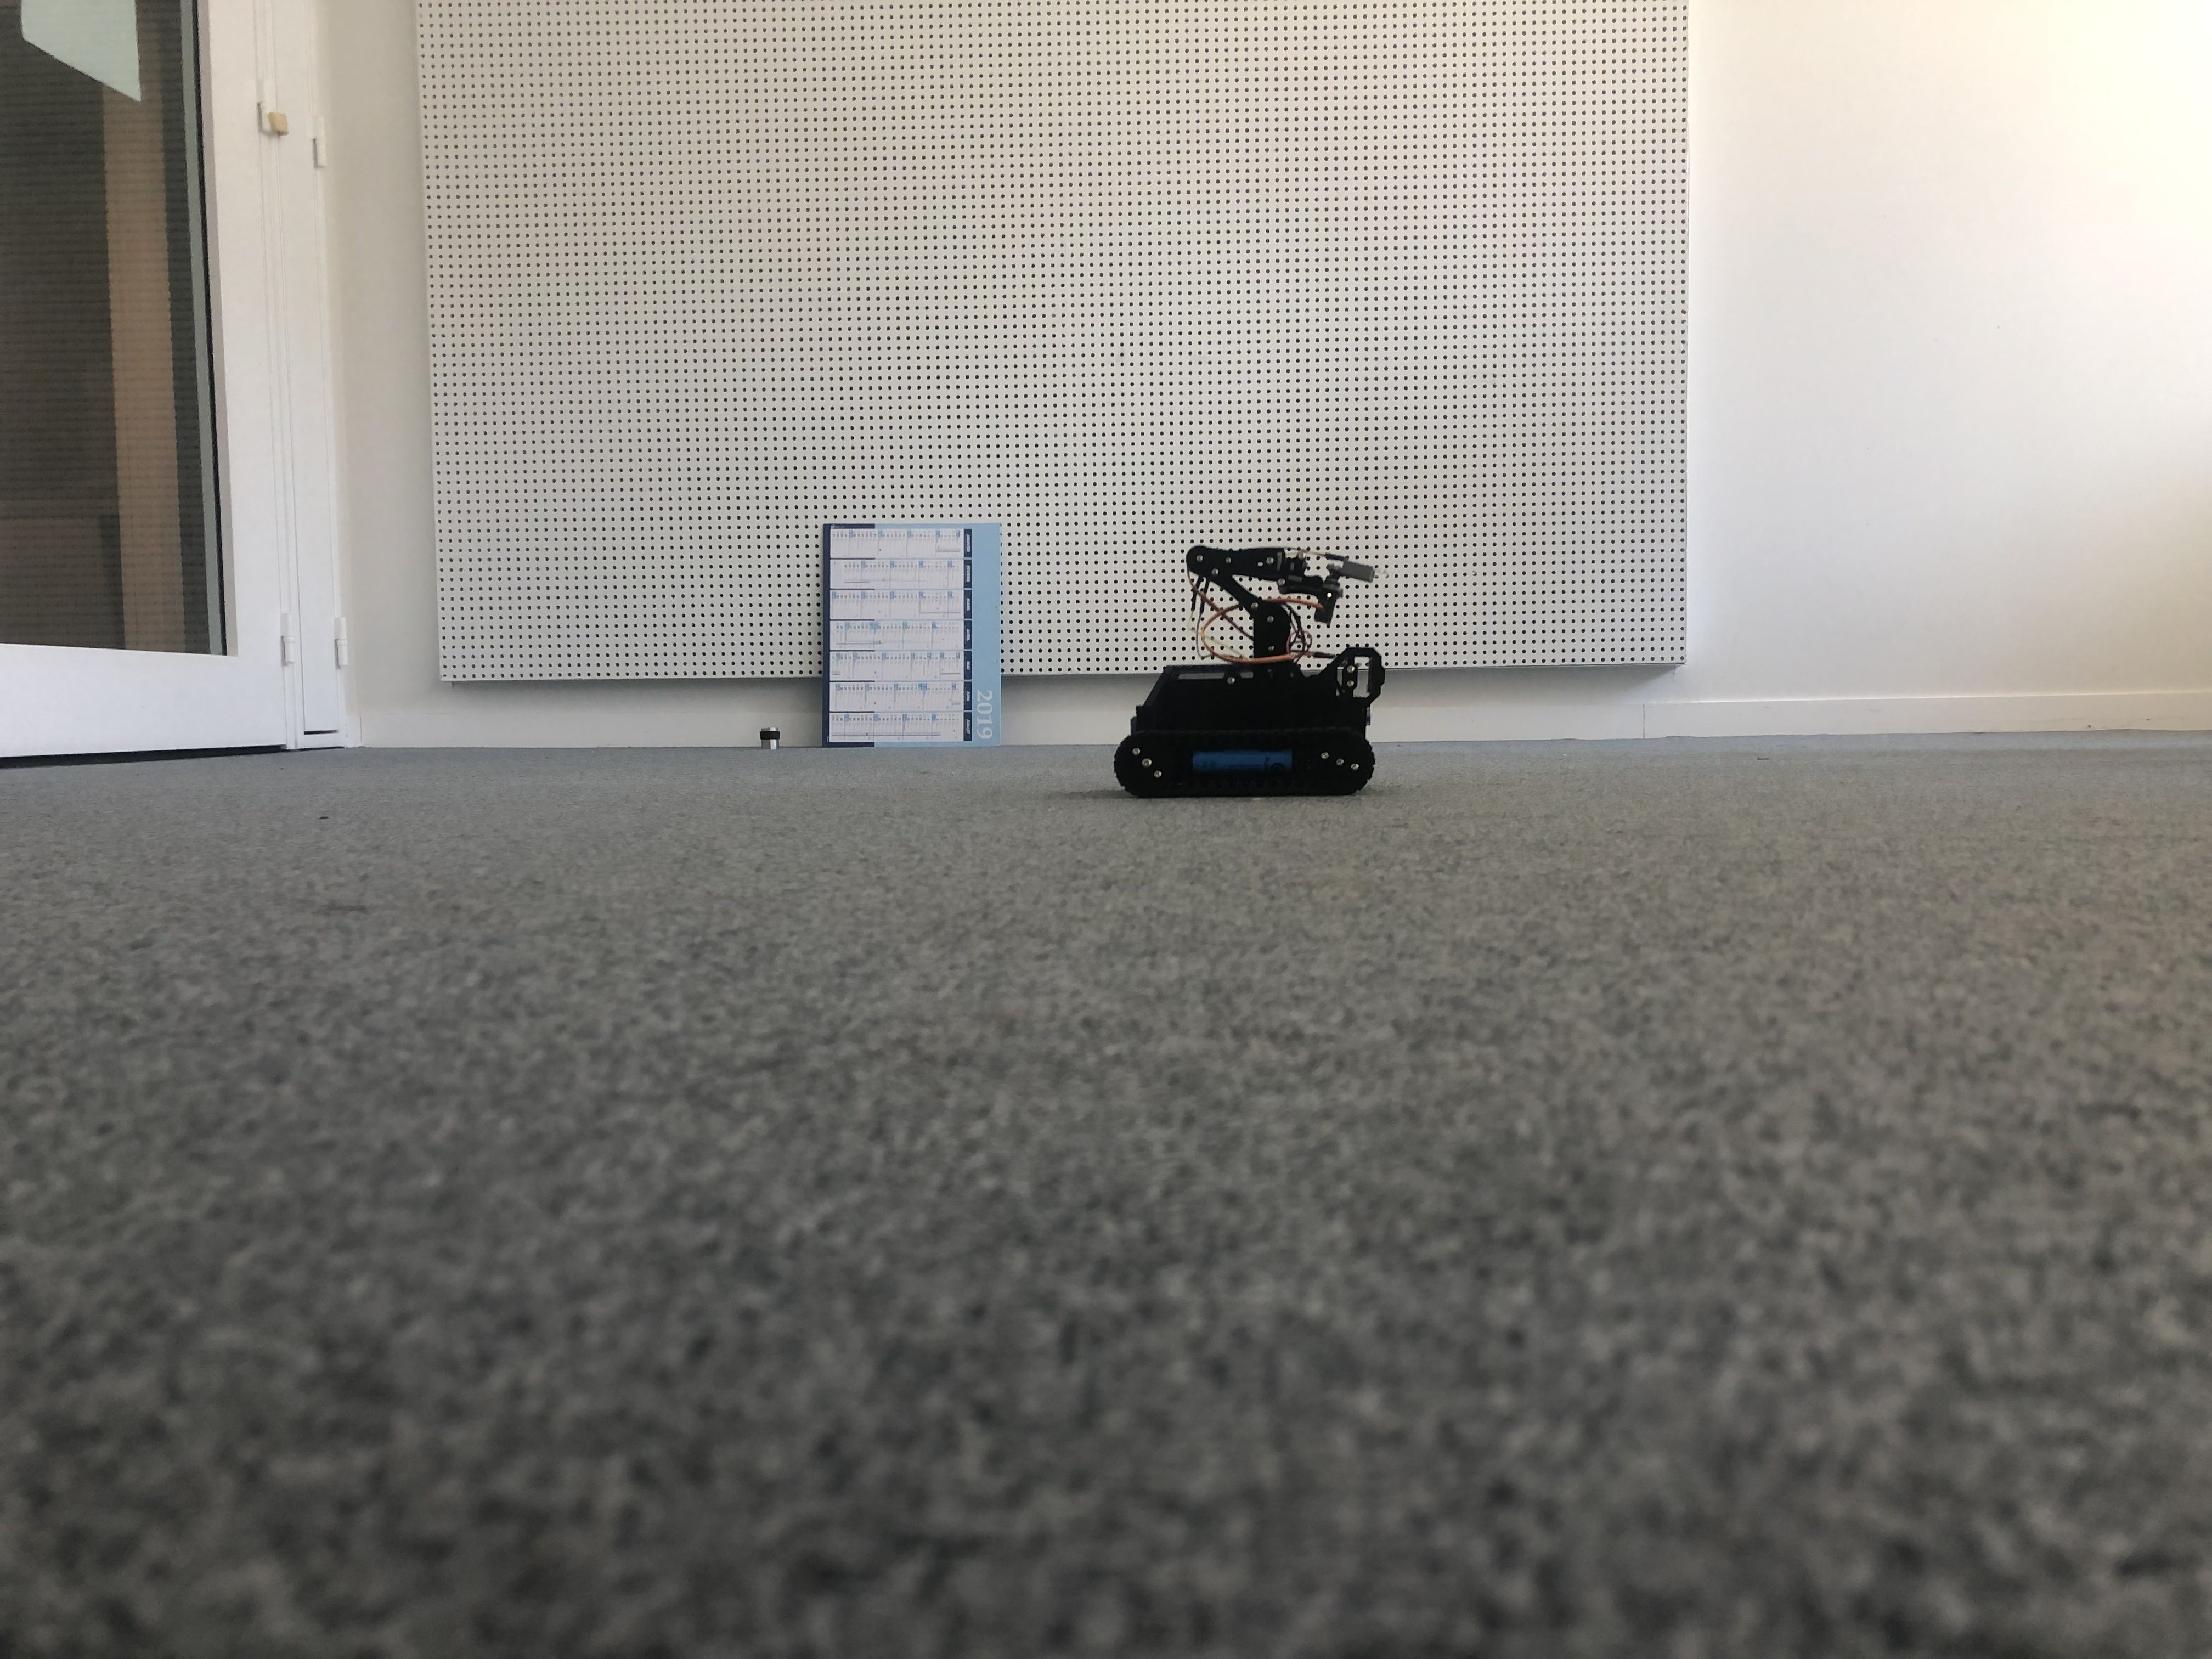rasptank: (1113, 551, 1404, 803)
